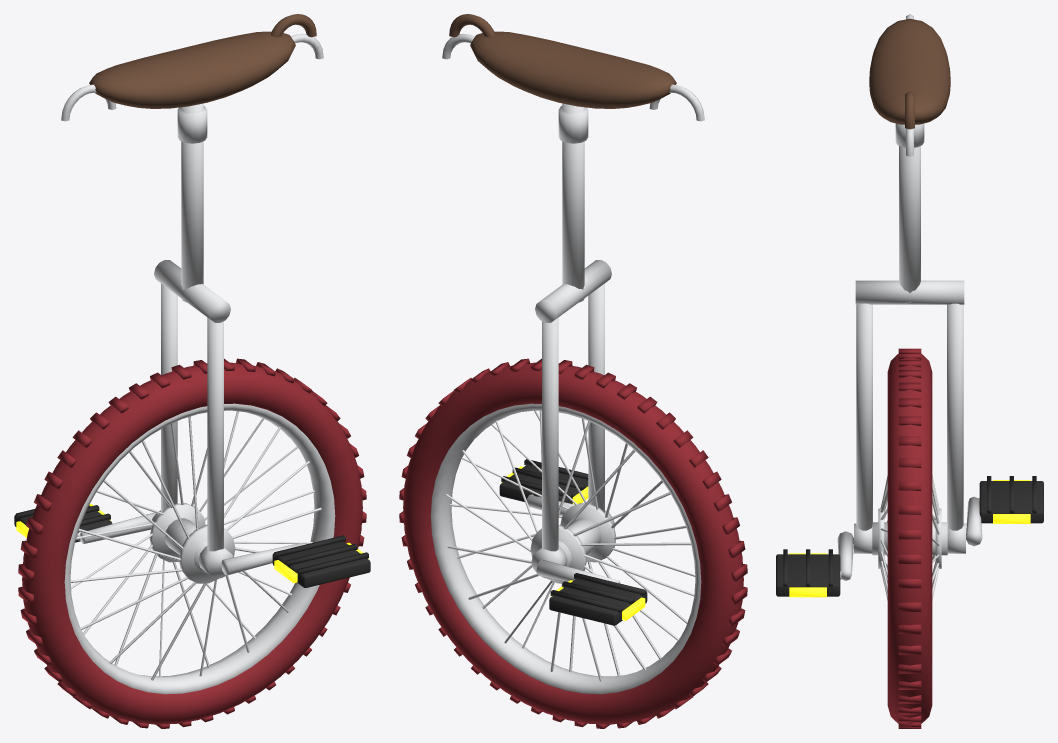
File: unicycle.glb
3 views of the same model, side by side, from view 1: azimuth 30°, elevation 25°; view 2: azimuth 150°, elevation 25°; view 3: azimuth 270°, elevation 25° (orthographic). The views are drawn at different scales.
Visible parts, largest first — view 1: unicycle_tyre, unicycle_wheel_metal, unicycle_frame, unicycle_saddle, pedal_right, unicycle_bumpers, pedal_left; view 2: unicycle_tyre, unicycle_wheel_metal, unicycle_frame, unicycle_saddle, pedal_left, pedal_right, unicycle_bumpers; view 3: unicycle_tyre, unicycle_frame, unicycle_saddle, unicycle_wheel_metal, pedal_right, pedal_left, pedal_right_reflectors.
Boxes of the visible parts, bbox=[...] form: unicycle_tyre: bbox=[18, 358, 366, 728]; unicycle_wheel_metal: bbox=[64, 403, 335, 694]; unicycle_frame: bbox=[150, 103, 233, 578]; unicycle_saddle: bbox=[89, 14, 316, 108]; pedal_right: bbox=[272, 535, 370, 587]; unicycle_bumpers: bbox=[61, 33, 323, 121]; pedal_left: bbox=[14, 505, 112, 542]; unicycle_tyre: bbox=[399, 358, 747, 728]; unicycle_wheel_metal: bbox=[430, 403, 701, 694]; unicycle_frame: bbox=[531, 103, 614, 578]; unicycle_saddle: bbox=[449, 14, 676, 108]; pedal_left: bbox=[549, 573, 647, 625]; pedal_right: bbox=[499, 459, 588, 503]; unicycle_bumpers: bbox=[442, 33, 704, 121]; unicycle_tyre: bbox=[887, 348, 932, 728]; unicycle_frame: bbox=[854, 123, 965, 553]; unicycle_saddle: bbox=[869, 18, 950, 129]; unicycle_wheel_metal: bbox=[837, 475, 982, 600]; pedal_right: bbox=[776, 549, 840, 596]; pedal_left: bbox=[979, 476, 1043, 523]; pedal_right_reflectors: bbox=[789, 553, 826, 597].
Size of the model in its own units: 0.5037 by 0.9724 by 0.355.
